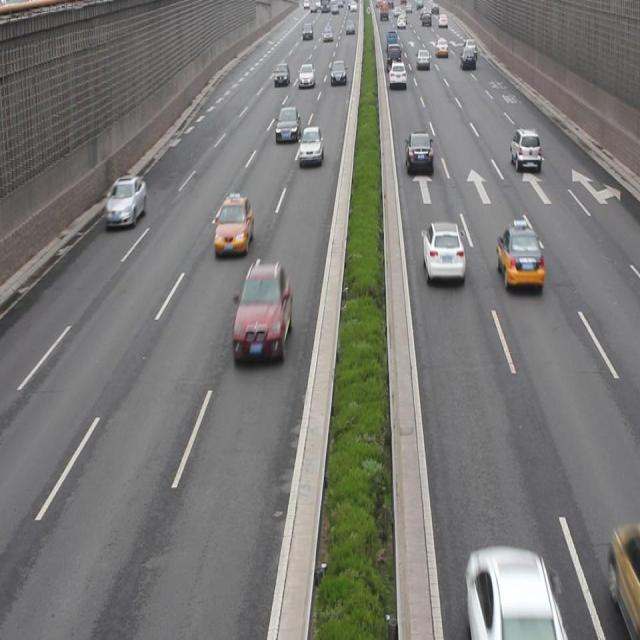car: (463, 548, 561, 640), (233, 262, 290, 361), (495, 219, 544, 292), (607, 522, 640, 630), (213, 190, 255, 262), (420, 220, 465, 284), (106, 177, 146, 230), (508, 128, 540, 172), (404, 130, 432, 173), (297, 125, 323, 163), (275, 105, 301, 142)
